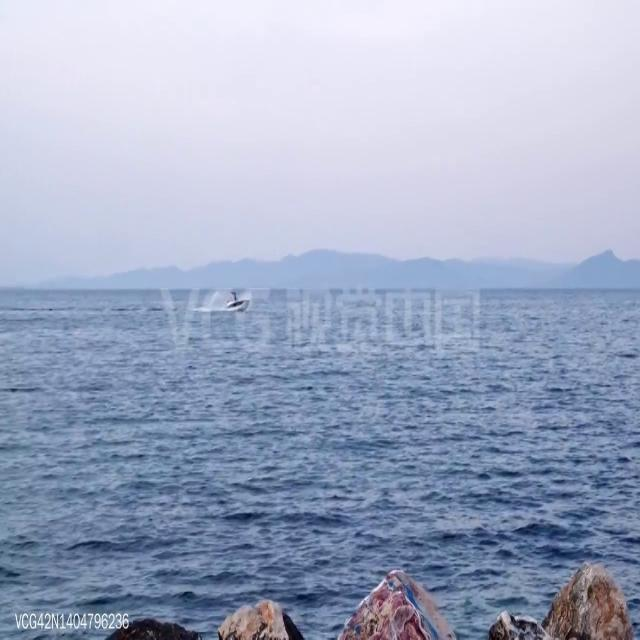houseboat: (227, 288, 250, 310)
